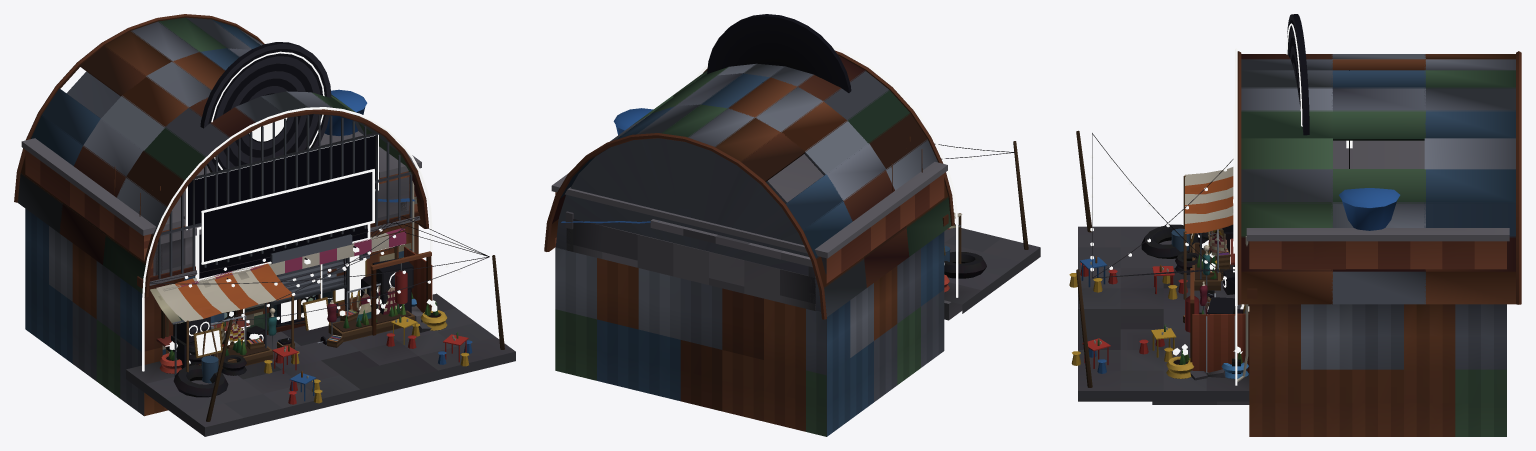
The model's file is lugares-chao.glb.
3 renders of one model, left to right at view 1: azimuth 30°, elevation 25°; view 2: azimuth 150°, elevation 25°; view 3: azimuth 270°, elevation 25°, orthographic. The views are drawn at different scales.
Visible parts, largest first — view 1: ginasio_solido, bar_solido, discos_solido, galeria_solido, brecho_solido, flores_solido, ginasio_neon, batida_solido, galeria_luz, discos_neon, flores_luz, brecho_neon; view 2: ginasio_solido, bar_solido, galeria_solido, discos_solido, ginasio_neon; view 3: ginasio_solido, bar_solido, discos_solido, galeria_solido, flores_solido, ginasio_neon, brecho_solido, batida_solido.
Boxes of the visible parts, x1=… form: ginasio_solido: x1=14, y1=14, x2=431, y2=416; bar_solido: x1=21, y1=89, x2=515, y2=436; discos_solido: x1=200, y1=42, x2=432, y2=349; galeria_solido: x1=153, y1=177, x2=431, y2=372; brecho_solido: x1=162, y1=224, x2=406, y2=353; flores_solido: x1=159, y1=292, x2=447, y2=383; ginasio_neon: x1=142, y1=107, x2=432, y2=371; batida_solido: x1=171, y1=257, x2=413, y2=368; galeria_luz: x1=196, y1=247, x2=365, y2=355; discos_neon: x1=211, y1=51, x2=404, y2=257; flores_luz: x1=169, y1=297, x2=437, y2=349; brecho_neon: x1=197, y1=224, x2=370, y2=341; ginasio_solido: x1=544, y1=50, x2=986, y2=436; bar_solido: x1=551, y1=108, x2=1040, y2=313; galeria_solido: x1=561, y1=211, x2=962, y2=310; discos_solido: x1=707, y1=14, x2=851, y2=165; ginasio_neon: x1=694, y1=45, x2=958, y2=297; ginasio_solido: x1=1141, y1=51, x2=1521, y2=436; bar_solido: x1=1069, y1=130, x2=1509, y2=401; discos_solido: x1=1183, y1=14, x2=1309, y2=373; galeria_solido: x1=1183, y1=167, x2=1245, y2=380; flores_solido: x1=1166, y1=228, x2=1248, y2=378; ginasio_neon: x1=1233, y1=48, x2=1237, y2=385; brecho_solido: x1=1199, y1=228, x2=1249, y2=314; batida_solido: x1=1207, y1=225, x2=1235, y2=314.
Bounding box in the file's own units: 13.6 × 13.35 × 15.81.
